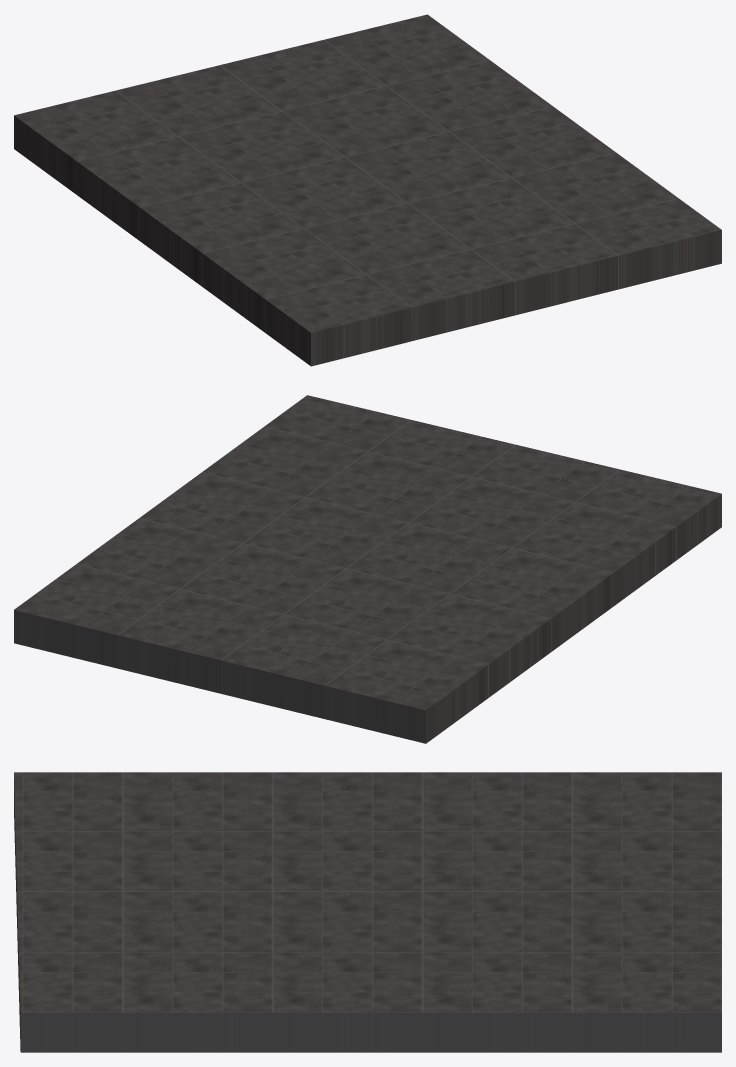
File: Platform_Square.fbx
3 views of the same model, one above another, from view 1: azimuth 30°, elevation 25°; view 2: azimuth 150°, elevation 25°; view 3: azimuth 270°, elevation 25° (orthographic). The views are drawn at different scales.
Visible parts, largest first — view 1: Platform.002, Platform.001, Platform; view 2: Platform, Platform.001, Platform.002; view 3: Platform.002, Platform.001, Platform.
Part boxes in pixels (x1,y1,x2,y2): Platform.002: [204, 146, 721, 366]; Platform.001: [100, 69, 607, 287]; Platform: [14, 14, 516, 211]; Platform: [14, 544, 511, 743]; Platform.001: [102, 471, 615, 680]; Platform.002: [193, 395, 721, 604]; Platform.002: [14, 772, 315, 1052]; Platform.001: [181, 772, 568, 1052]; Platform: [459, 772, 721, 1052].
Size of the model in its own units: 504 by 39.22 by 627.
